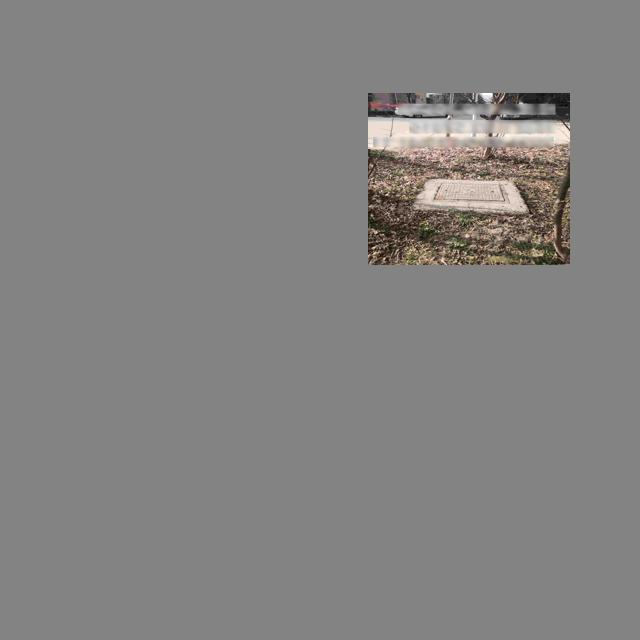good: (431, 181, 510, 202)
